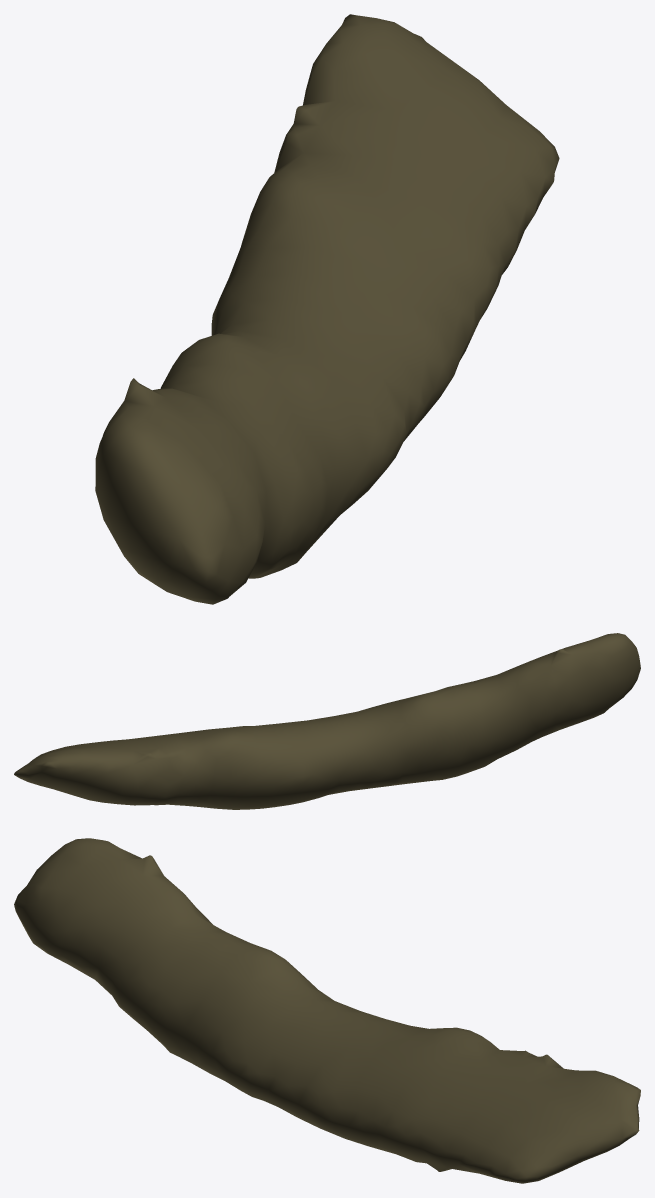
File: segmentations_rib_right_12.obj
3 renders of one model, top to bottom at view 1: azimuth 30°, elevation 25°; view 2: azimuth 150°, elevation 25°; view 3: azimuth 270°, elevation 25°, orthographic. The views are drawn at different scales.
Visible parts, largest first — view 1: grp1; view 2: grp1; view 3: grp1.
Part boxes in pixels (bbox=[...]): grp1: bbox=[95, 14, 559, 604]; grp1: bbox=[14, 633, 640, 809]; grp1: bbox=[14, 838, 640, 1183].
Size of the model in its own units: 21.11 by 6.68 by 23.38.
